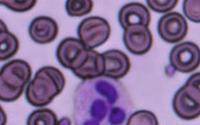N: (73, 75, 136, 125)
